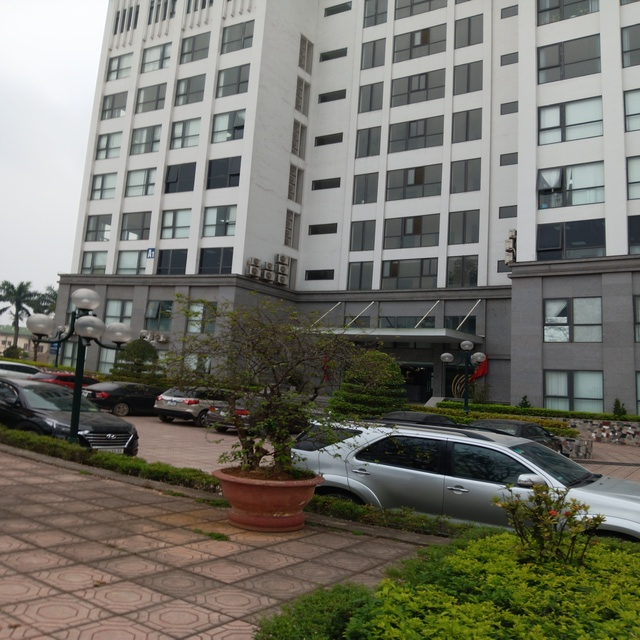cotden: (29, 286, 138, 453), (439, 337, 494, 412)
